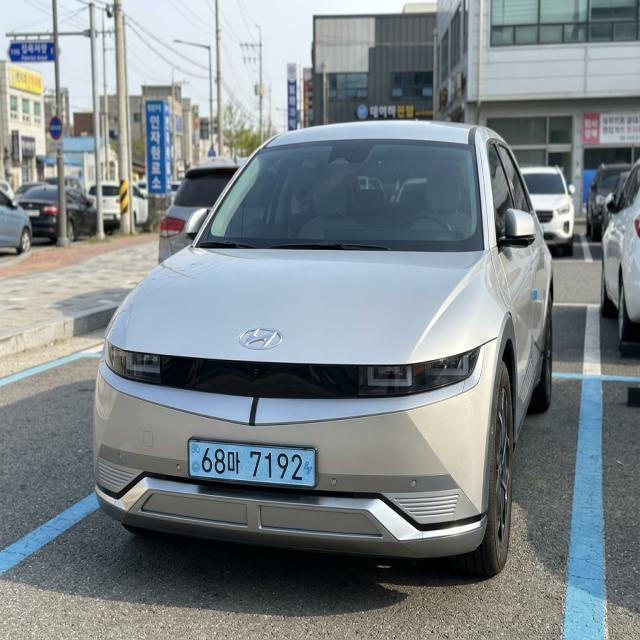car: (165, 430, 341, 496)
carev: (301, 446, 325, 488), (183, 437, 201, 485)
